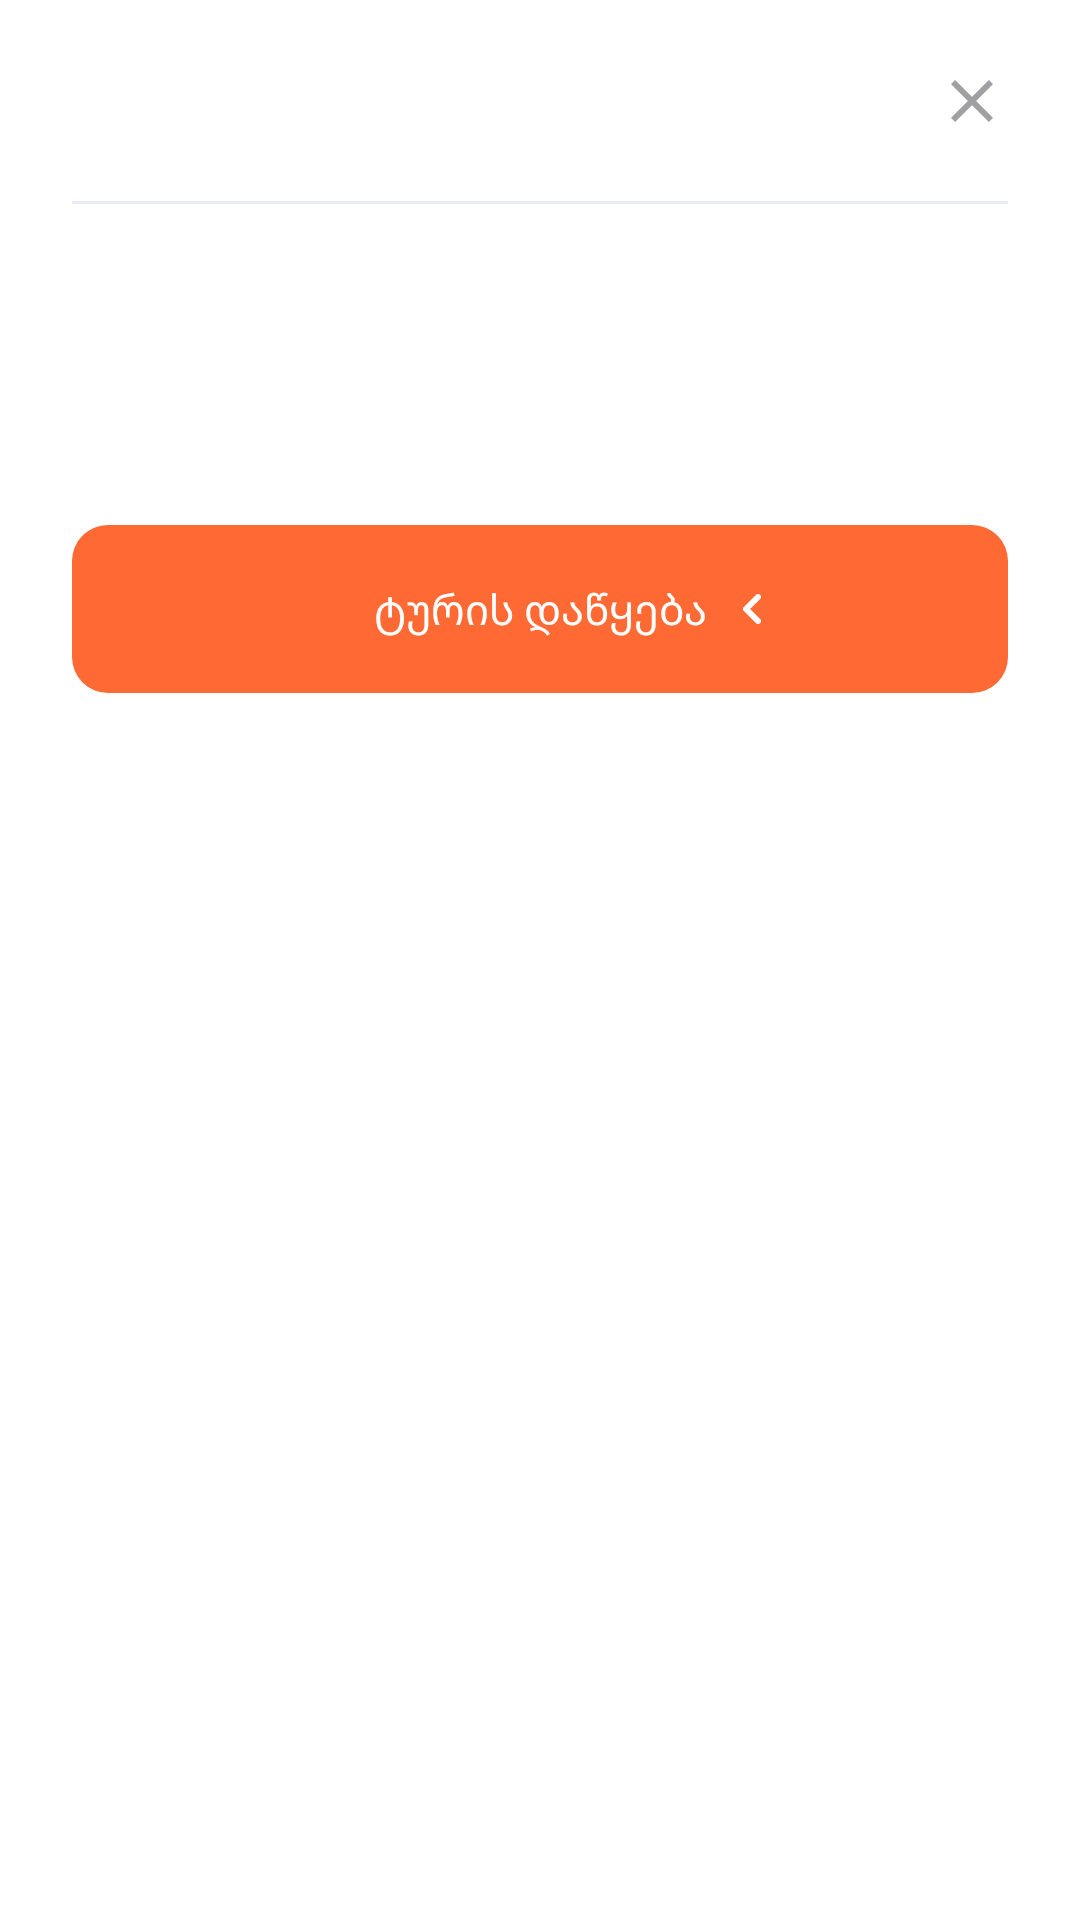

Icons on this 1080px x 1920px Android screen, each with its box as (x1, y1, x2, y2):
close: (951, 80, 993, 122)
